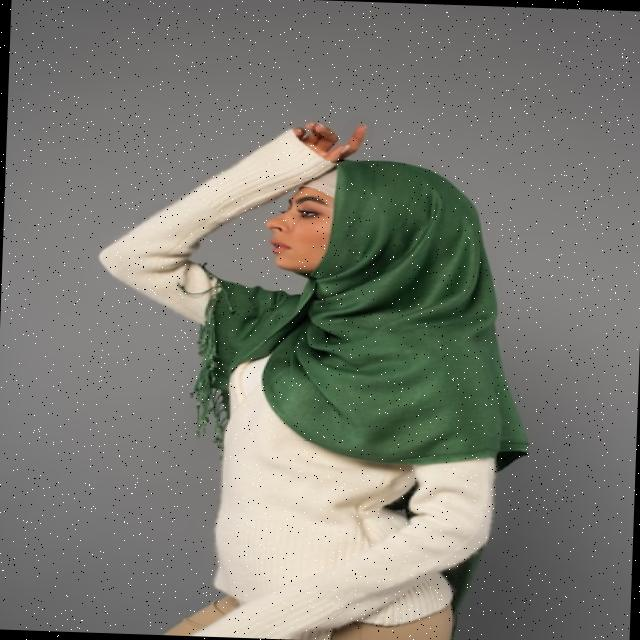Person: (84, 112, 538, 640)
